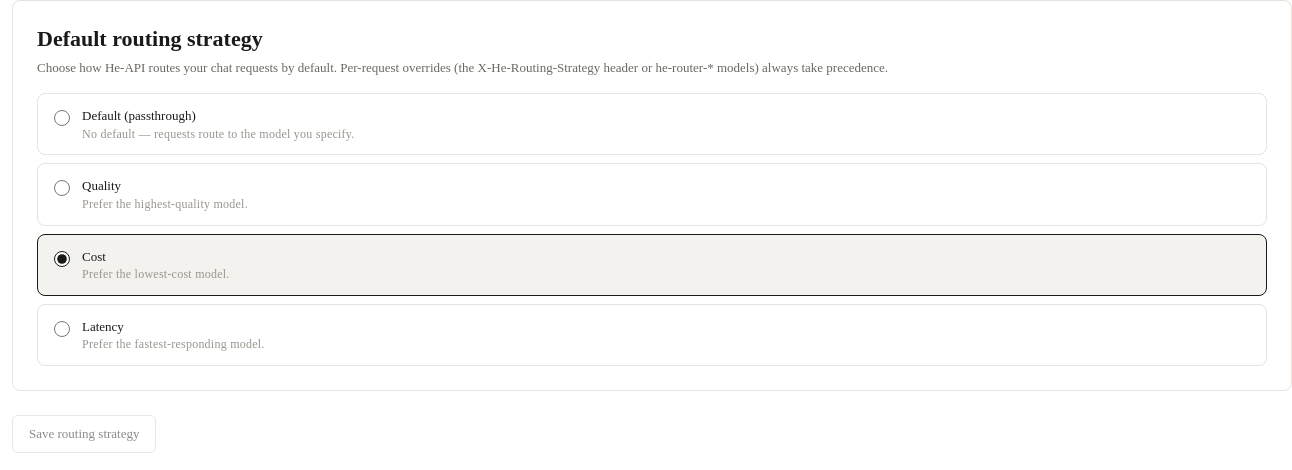
it: AC1: RoutingStrategyForm — select + persist › 6.5-UNIT-007: pending state disables the control during save
The width and height of the screenshot is (1292, 470).
Click the radio button labelled "Quality Prefer the highest-quality model.". click: (62, 188)
box: [54,180,70,196]
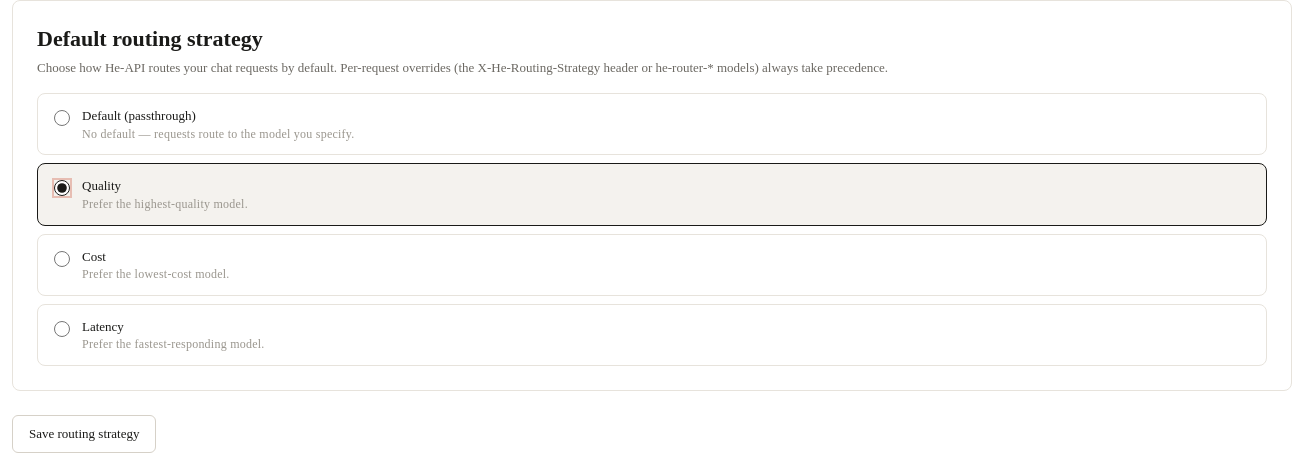
Click the button "Save routing strategy". click: (84, 434)
box: [12,415,156,453]
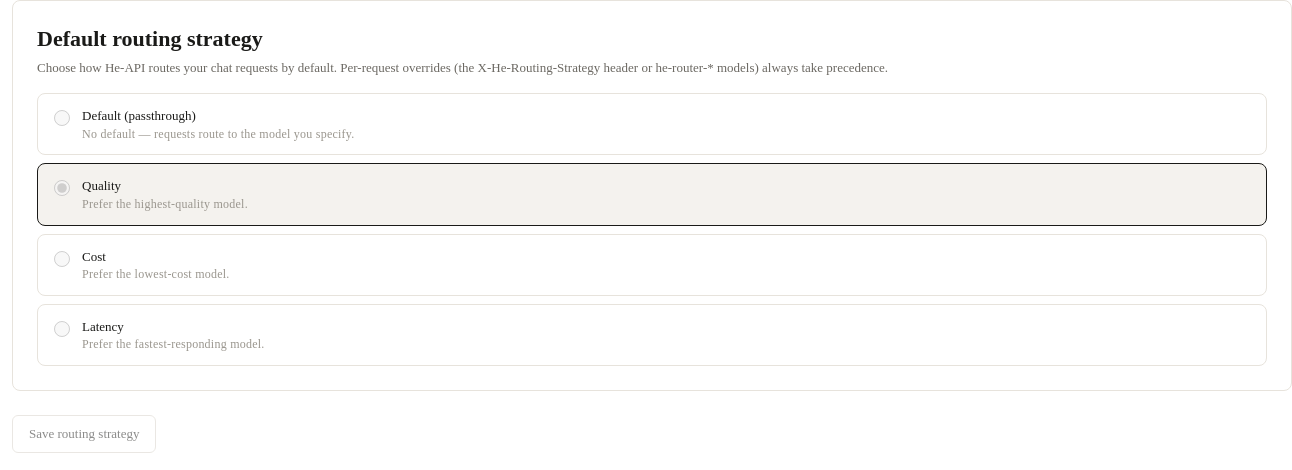
Expected: the radio button labelled "Quality Prefer the highest-quality model." is disabled, [54,180,70,196]
Result: the button "Save routing strategy" is disabled at [12,415,156,453]
